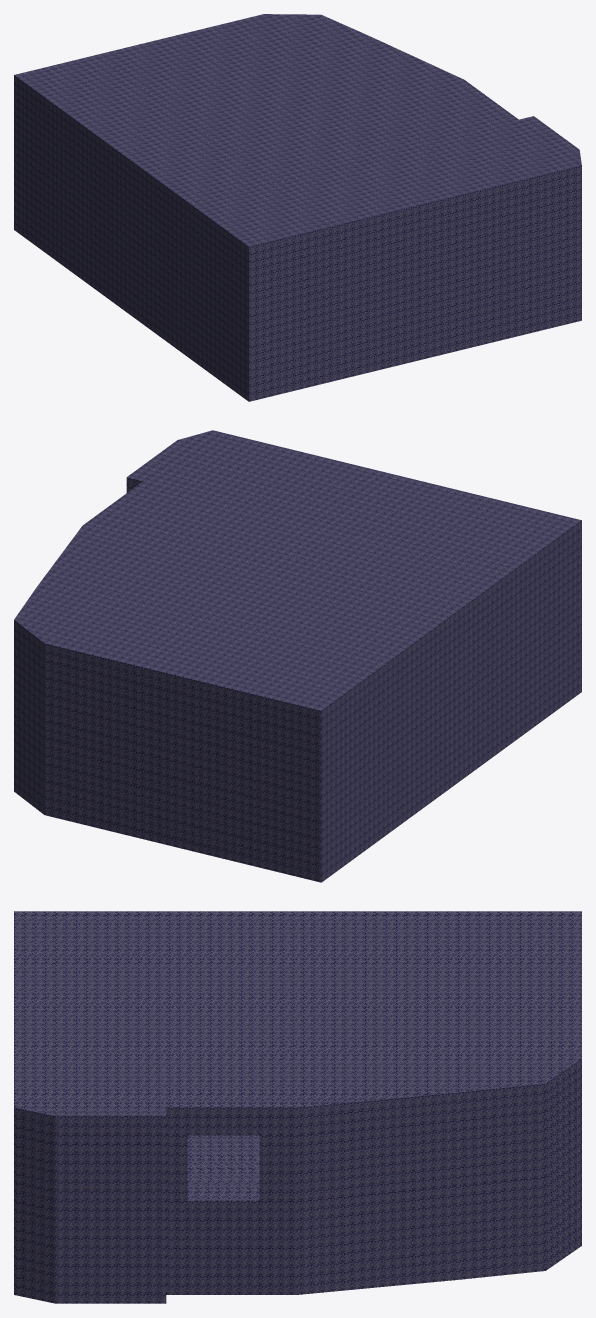
File: Zone_A.obj
3 views of the same model, one above another, from view 1: azimuth 30°, elevation 25°; view 2: azimuth 150°, elevation 25°; view 3: azimuth 270°, elevation 25° (orthographic). The views are drawn at different scales.
Parts seen in each view (by area): view 1: Zone_A; view 2: Zone_A; view 3: Zone_A.
Part boxes in pixels (x1,y1,x2,y2): Zone_A: (14,14,581,401); Zone_A: (14,430,581,882); Zone_A: (14,911,581,1303).
Size of the model in its own units: 47 by 20 by 55.
Materials: 1 (1 with a texture image).
